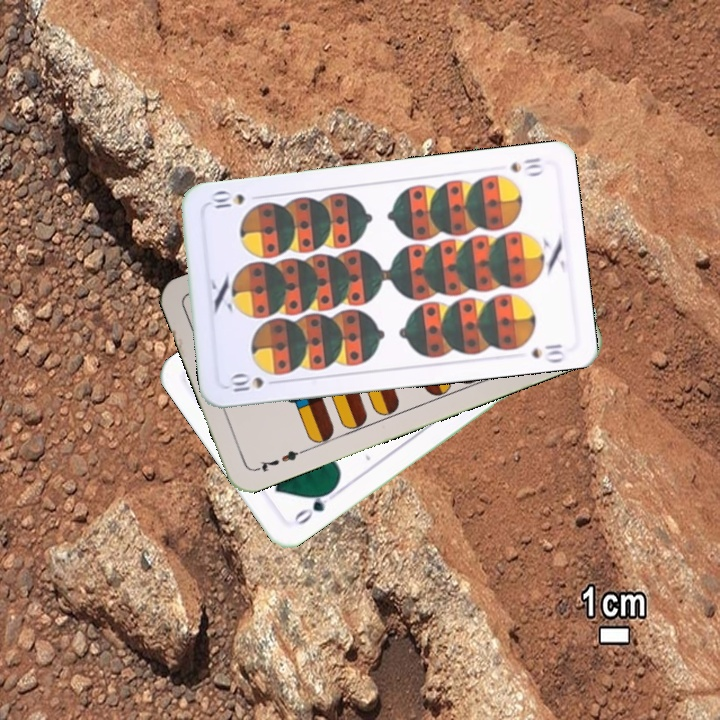E7: (251, 445, 308, 475)
GO: (288, 485, 337, 528)
S10: (224, 371, 283, 397), (506, 154, 547, 178)
